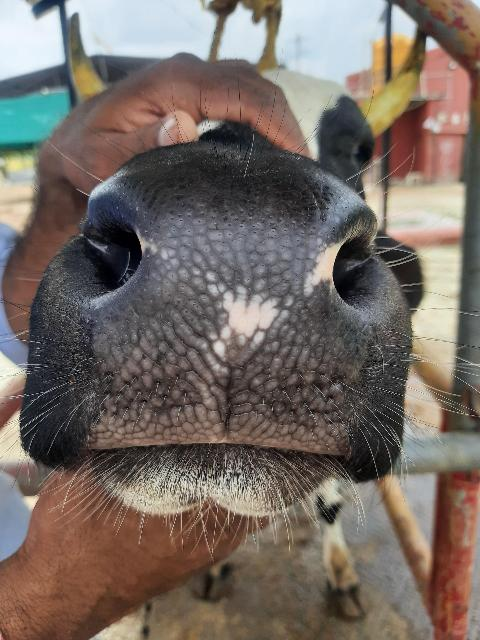Muzzle: (92, 184, 358, 444)
